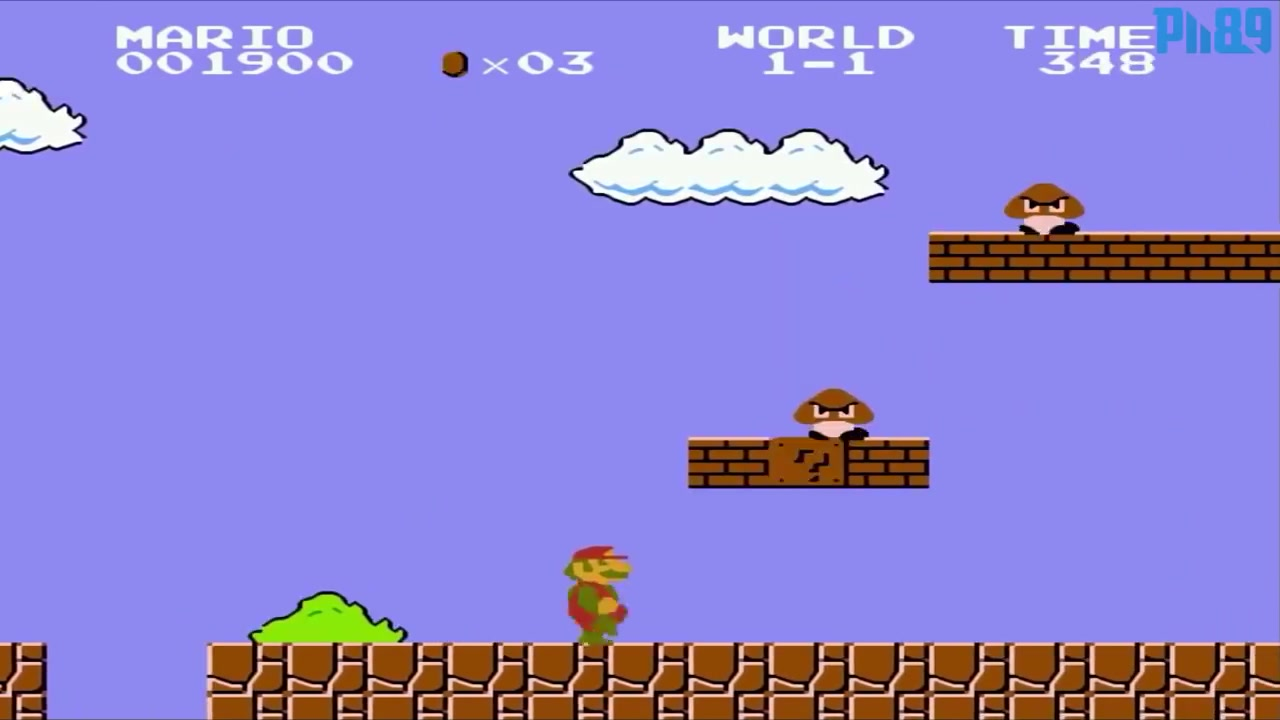mario: (550, 533, 639, 646)
